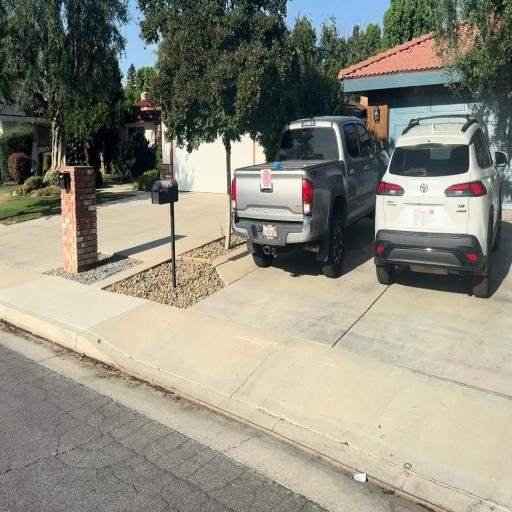bullseye: (262, 169, 271, 188)
